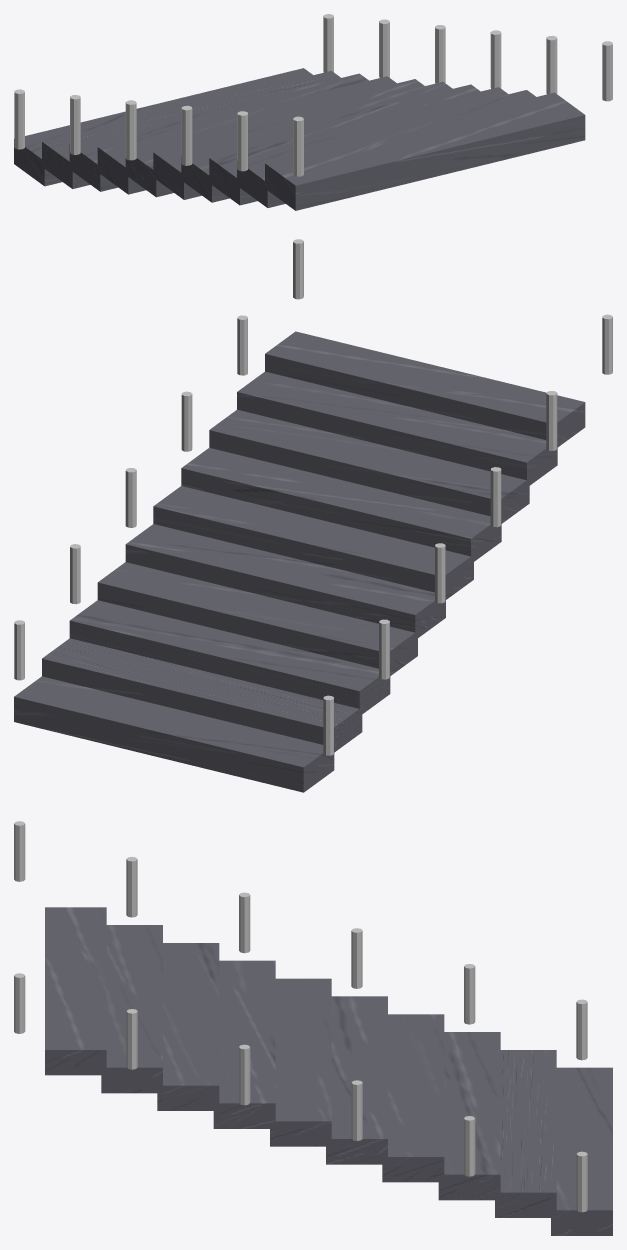
Rendered from shogun_stone_stairway.obj.
3 renders of one model, top to bottom at view 1: azimuth 30°, elevation 25°; view 2: azimuth 150°, elevation 25°; view 3: azimuth 270°, elevation 25°, orthographic.
Visible parts, largest first — view 1: geometry_9, geometry_7, geometry_8, geometry_2, geometry_1, geometry_5, geometry_3, geometry_6, geometry_0, geometry_4, geometry_12, geometry_13 (+10 smaller); view 2: geometry_0, geometry_9, geometry_6, geometry_2, geometry_8, geometry_4, geometry_1, geometry_7, geometry_5, geometry_3; view 3: geometry_9, geometry_3, geometry_5, geometry_7, geometry_1, geometry_0, geometry_4, geometry_8, geometry_6, geometry_2, geometry_12, geometry_15 (+10 smaller).
Boxes of the visible parts, box(x1,y1,x2,y2) form: geometry_9: box(265, 92, 585, 210); geometry_7: box(209, 87, 508, 205); geometry_8: box(237, 90, 535, 207); geometry_2: box(69, 73, 368, 191); geometry_1: box(42, 71, 340, 188); geometry_5: box(153, 82, 452, 199); geometry_3: box(97, 76, 396, 194); geometry_6: box(181, 84, 480, 202); geometry_0: box(14, 68, 312, 186); geometry_4: box(125, 79, 424, 197); geometry_12: box(125, 100, 136, 160); geometry_13: box(181, 105, 192, 165); geometry_0: box(14, 676, 334, 792); geometry_9: box(265, 331, 585, 447); geometry_6: box(181, 447, 501, 563); geometry_2: box(69, 600, 390, 715); geometry_8: box(237, 371, 557, 485); geometry_4: box(125, 524, 445, 637); geometry_1: box(42, 638, 362, 752); geometry_7: box(209, 409, 529, 523); geometry_5: box(153, 486, 473, 599); geometry_3: box(97, 562, 417, 676); geometry_9: box(45, 907, 106, 1075); geometry_3: box(382, 1014, 444, 1182); geometry_5: box(270, 978, 331, 1146); geometry_7: box(157, 943, 219, 1110); geometry_1: box(495, 1050, 556, 1217); geometry_0: box(551, 1067, 612, 1235); geometry_4: box(326, 996, 387, 1164); geometry_8: box(101, 925, 162, 1093); geometry_6: box(213, 960, 275, 1128); geometry_2: box(438, 1032, 500, 1200); geometry_12: box(351, 928, 362, 988); geometry_15: box(14, 821, 25, 881).
Bounding box in the file's own units: 6.6 × 5.2 × 10.65.
